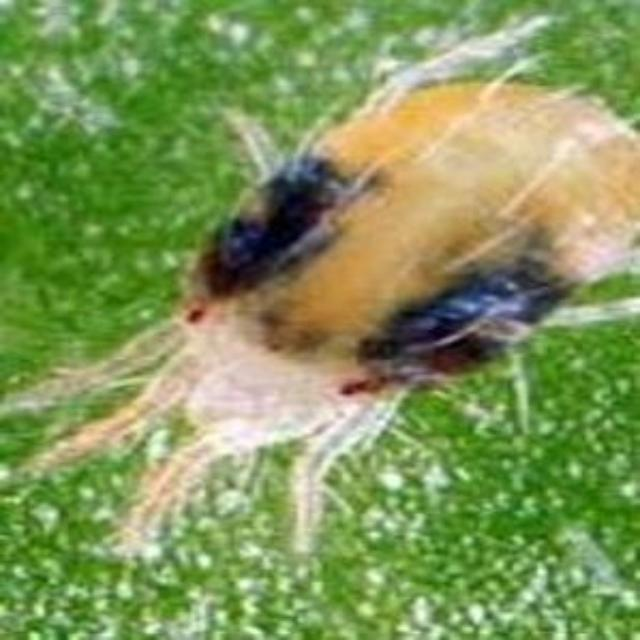spider mite: (14, 28, 640, 640)
